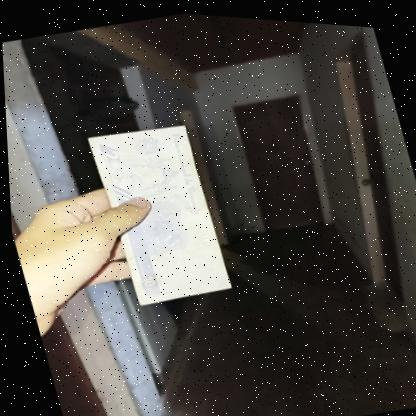ten-back-vef: (84, 114, 232, 311)
